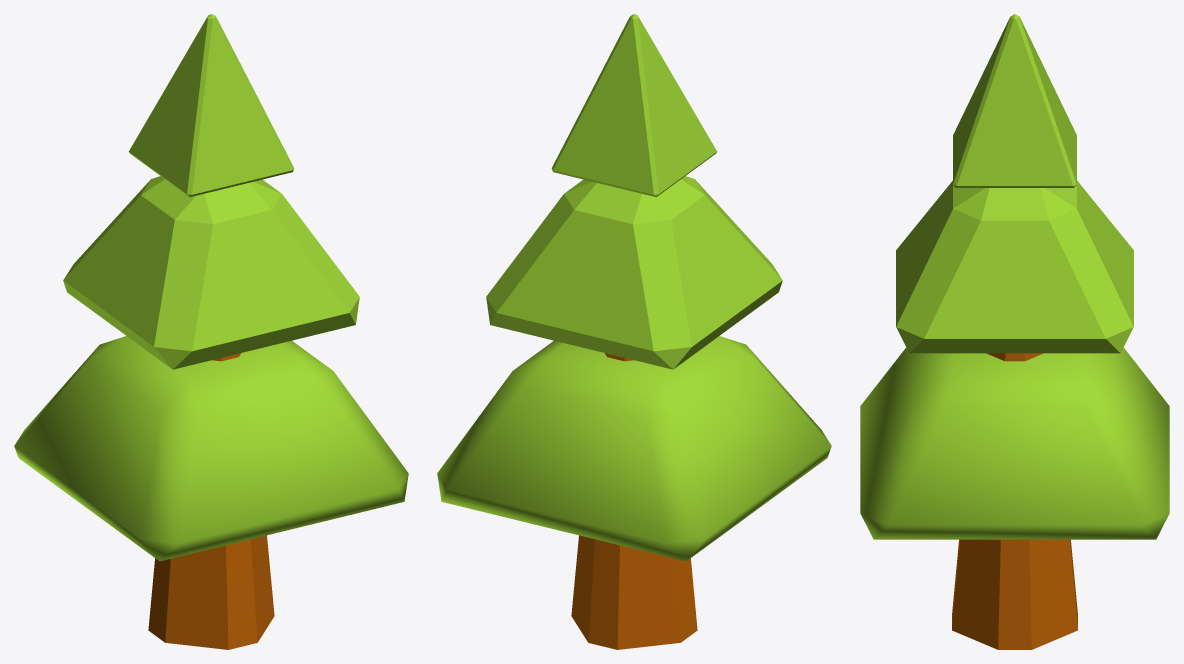
File: TreeA.fbx
3 renders of one model, left to right at view 1: azimuth 30°, elevation 25°; view 2: azimuth 150°, elevation 25°; view 3: azimuth 270°, elevation 25°, orthographic.
Visible parts, largest first — view 1: Cube.103; view 2: Cube.103; view 3: Cube.103.
Part boxes in pixels (x1=…): Cube.103: x1=14, y1=14, x2=408, y2=649; Cube.103: x1=437, y1=14, x2=831, y2=649; Cube.103: x1=860, y1=14, x2=1169, y2=649.
Size of the model in its own units: 4.9 by 10.65 by 4.9.
Materials: 1 (1 with a texture image).
